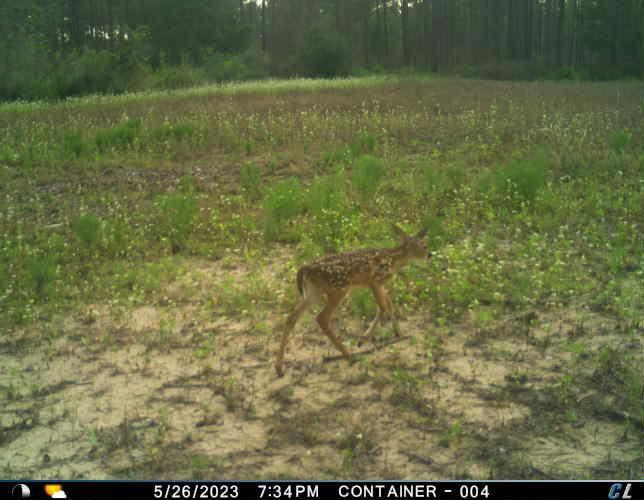Deer: (271, 219, 438, 373)
